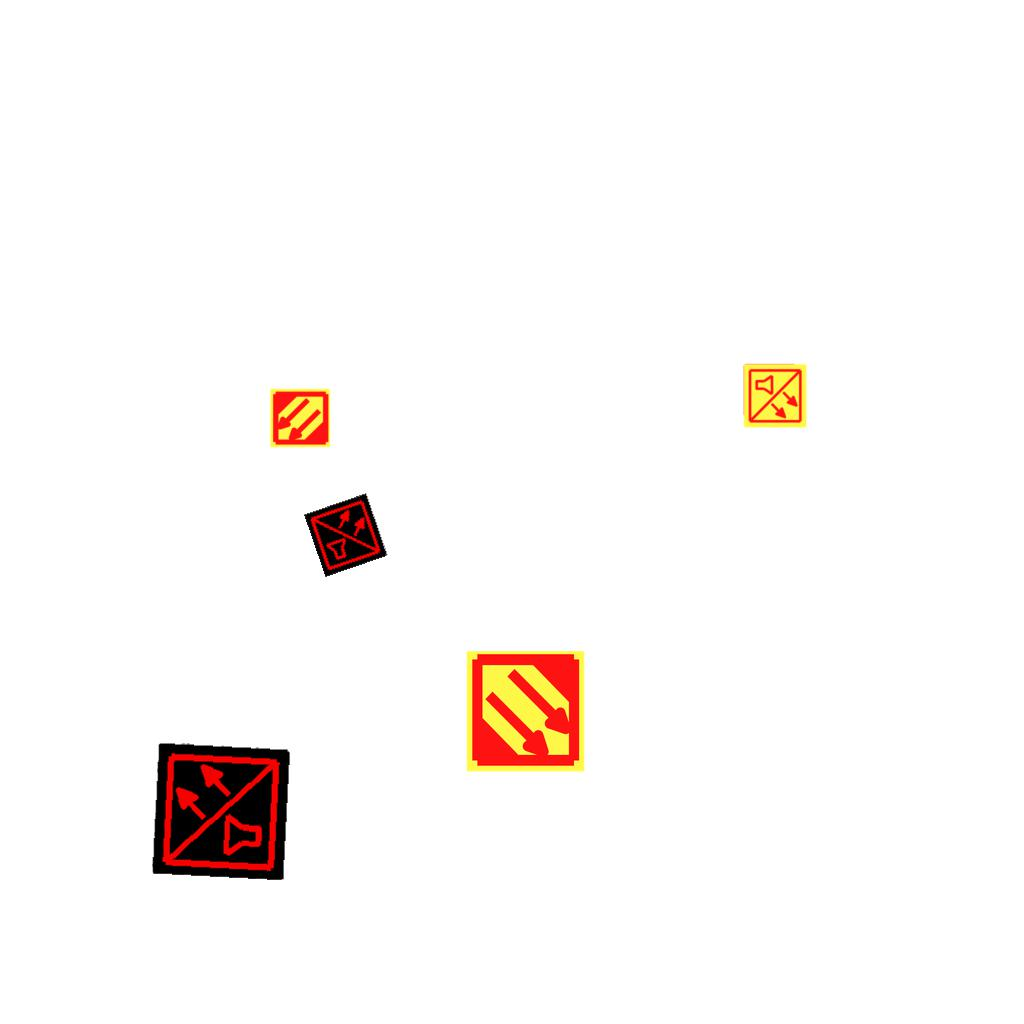ASR_Ansaugrauchmelder: (463, 649, 588, 774), (269, 387, 331, 449)
OKW_Multisensormelder_(Kombination_optischer_Rauch-Kahlenmonoxid_Waerme-Melder): (151, 741, 291, 881), (304, 493, 388, 577), (742, 363, 808, 429)
